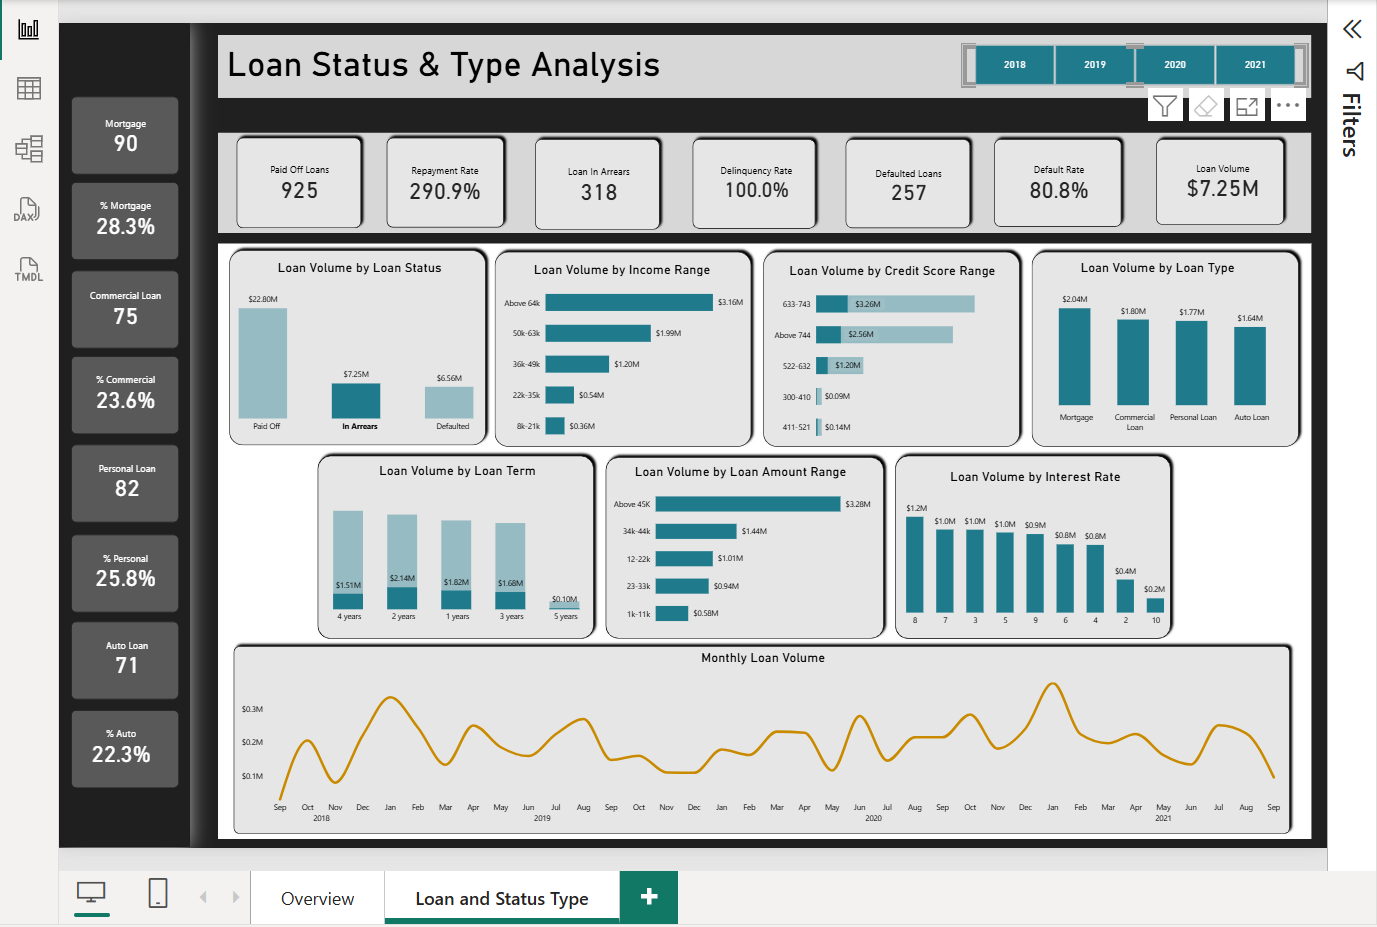

This screenshot's page, from the dashboard's own definition file:
{"tool":"powerbi","page":{"name":"Loan and Status Type","canvas":[2000,1300],"ordinal":1},"visuals":[{"type":"shape","box":[250.8,347.8,1724.8,939.3],"z":0},{"type":"shape","box":[250.8,18.9,1724.8,99.4],"z":1000},{"type":"shape","box":[250.8,172.7,1724.8,158.5],"z":2000},{"type":"shape","box":[267.4,974.8,1682.2,312.3],"z":3000},{"type":"shape","box":[272.5,172.5,212.7,159],"z":4000},{"type":"shape","box":[507.5,172.5,201.1,158],"z":5000},{"type":"shape","box":[742.5,175,212.7,159],"z":6000},{"type":"shape","box":[992.5,175,210,157.5],"z":7000},{"type":"shape","box":[1232.5,175,212.7,156.7],"z":8000},{"type":"shape","box":[1467.5,175,217.2,154.5],"z":9000},{"type":"shape","box":[1722.5,175,217.7,151.4],"z":11000},{"type":"cardVisual","fields":{"Data":["Measure Table.Paid Off Loans"]},"box":[287.5,195,182.2,118.3],"z":12000},{"type":"cardVisual","fields":{"Data":["Measure Table.Repayment Rate"]},"box":[522.5,190,172.7,130.1],"z":13000},{"type":"cardVisual","fields":{"Data":["Measure Table.Loan In Arrears"]},"box":[755,195,194,125.4],"z":14000},{"type":"cardVisual","fields":{"Data":["Measure Table.Delinquency Rate"]},"box":[995,195,208.2,118.3],"z":15000},{"type":"cardVisual","fields":{"Data":["Measure Table.Defaulted Loans"]},"box":[1240,210,201.1,94.6],"z":16000},{"type":"cardVisual","fields":{"Data":["Measure Table.Default Rate"]},"box":[1485,192.5,183.6,123.1],"z":17000},{"type":"cardVisual","fields":{"Data":["Measure Table.Loan Volume Display"]},"box":[1732.5,192.5,208.2,118.3],"z":19000},{"type":"lineChart","title":"Monthly Loan Volume","fields":{"Category":["Date Table.Year","Date Table.Month Name"],"Y":["Measure Table.Loan Volume"]},"box":[272.5,975,1677.5,312.5],"z":20000},{"type":"slicer","fields":{"Values":["Date Table.Year"]},"box":[1424.3,33.1,544.2,66.2],"z":21000},{"type":"shape","box":[0,0,206.9,1300],"z":22000},{"type":"shape","title":"Loan Status & Type Analysis","box":[250.8,33.1,712.1,80.4],"z":23000},{"type":"shape","box":[17.9,116.4,170,123],"z":24000},{"type":"shape","box":[17.9,250.8,170,123],"z":25000},{"type":"shape","box":[17.9,389.6,170,123],"z":26000},{"type":"shape","box":[17.9,526.1,170.2,123.1],"z":27000},{"type":"shape","box":[17.9,664.9,170,123],"z":28000},{"type":"shape","box":[17.9,806,170,123],"z":29000},{"type":"shape","box":[17.9,944.8,170,123],"z":30000},{"type":"shape","box":[17.9,1083.6,170.2,123.1],"z":31000},{"type":"cardVisual","fields":{"Data":["Measure Table.Mortgage"]},"box":[14.2,120.7,182.2,118.3],"z":32000},{"type":"cardVisual","fields":{"Data":["Measure Table.% Mortgage"]},"box":[14.2,250.8,182.2,118.3],"z":33000},{"type":"cardVisual","fields":{"Data":["Measure Table.Commercial Loan"]},"box":[14.2,392.7,182.2,118.3],"z":34000},{"type":"cardVisual","fields":{"Data":["Measure Table.% Commercial"]},"box":[14.2,525.2,182.2,118.3],"z":35000},{"type":"cardVisual","fields":{"Data":["Measure Table.Personal Loan"]},"box":[16.6,664.8,182.2,118.3],"z":36000},{"type":"cardVisual","fields":{"Data":["Measure Table.% Personal Loan"]},"box":[14.2,806.8,182.2,118.3],"z":37000},{"type":"cardVisual","fields":{"Data":["Measure Table.Auto Loan"]},"box":[16.6,944,182.2,118.3],"z":38000},{"type":"cardVisual","fields":{"Data":["Measure Table.% Auto Loan"]},"box":[7.1,1083.6,182.2,118.3],"z":39000},{"type":"shape","box":[260.3,350.2,421.1,324.1],"z":40000},{"type":"columnChart","title":"Loan Volume by Loan Status","fields":{"Category":["loan dataset.Loan Status"],"Y":["Measure Table.Loan Volume"]},"box":[267.4,359.6,414,305.2],"z":41000},{"type":"shape","box":[679,352.5,421.1,324.1],"z":42000},{"type":"shape","box":[1102.5,352.5,421.1,324.1],"z":43000},{"type":"shape","box":[1526,352.5,437.7,324.1],"z":44000},{"type":"shape","box":[400,675,451.9,305.2],"z":45000},{"type":"shape","box":[854.4,675.6,455,302.5],"z":46000},{"type":"shape","box":[1310,674.4,451,305],"z":47000},{"type":"clusteredBarChart","title":"Loan Volume by Income Range","fields":{"Category":["loan dataset.Income Range"],"Y":["Measure Table.Loan Volume"]},"box":[681.4,362,414,305.2],"z":48000},{"type":"clusteredBarChart","title":"Loan Volume by Credit Score Range","fields":{"Category":["loan dataset.Credit Score Range"],"Y":["Measure Table.Loan Volume Display"]},"box":[1107.5,365,415,305],"z":49000},{"type":"columnChart","title":"Loan Volume by Loan Type","fields":{"Category":["loan dataset.Loan Type"],"Y":["Measure Table.Loan Volume"]},"box":[1525,360,414,305.2],"z":50000},{"type":"columnChart","title":"Loan Volume by Loan Term","fields":{"Category":["loan dataset.Loan Term"],"Y":["Measure Table.Loan Volume"]},"box":[415.6,680,424.4,286.7],"z":51000},{"type":"columnChart","title":"Loan Volume by Interest Rate","fields":{"Category":["loan dataset.Interest Rate New"],"Y":["Measure Table.Loan Volume"]},"box":[1320,687.5,440,282.5],"z":52000},{"type":"clusteredBarChart","title":"Loan Volume by Loan Amount Range","fields":{"Category":["loan dataset.Loan Amount Range"],"Y":["Measure Table.Loan Volume"]},"box":[855,682.5,442.5,280],"z":53000}]}

Visuals, with their boxes on the page's 2000x1300 design canvas (x1, y1, x2, y2). These are canvas units, not pixel positions in the 1377x927 screenshot, which may show the page scaled, cropped or inside an application window:
shape: Rect(251, 348, 1976, 1287)
shape: Rect(251, 19, 1976, 118)
shape: Rect(251, 173, 1976, 331)
shape: Rect(267, 975, 1950, 1287)
shape: Rect(272, 172, 485, 332)
shape: Rect(508, 172, 709, 330)
shape: Rect(742, 175, 955, 334)
shape: Rect(992, 175, 1202, 332)
shape: Rect(1232, 175, 1445, 332)
shape: Rect(1468, 175, 1685, 330)
shape: Rect(1722, 175, 1940, 326)
cardVisual - Measure Table.Paid Off Loans: Rect(288, 195, 470, 313)
cardVisual - Measure Table.Repayment Rate: Rect(522, 190, 695, 320)
cardVisual - Measure Table.Loan In Arrears: Rect(755, 195, 949, 320)
cardVisual - Measure Table.Delinquency Rate: Rect(995, 195, 1203, 313)
cardVisual - Measure Table.Defaulted Loans: Rect(1240, 210, 1441, 305)
cardVisual - Measure Table.Default Rate: Rect(1485, 192, 1669, 316)
cardVisual - Measure Table.Loan Volume Display: Rect(1732, 192, 1941, 311)
"Monthly Loan Volume" lineChart: Rect(272, 975, 1950, 1288)
slicer - Date Table.Year: Rect(1424, 33, 1968, 99)
shape: Rect(0, 0, 207, 1300)
"Loan Status & Type Analysis" shape: Rect(251, 33, 963, 114)
shape: Rect(18, 116, 188, 239)
shape: Rect(18, 251, 188, 374)
shape: Rect(18, 390, 188, 513)
shape: Rect(18, 526, 188, 649)
shape: Rect(18, 665, 188, 788)
shape: Rect(18, 806, 188, 929)
shape: Rect(18, 945, 188, 1068)
shape: Rect(18, 1084, 188, 1207)
cardVisual - Measure Table.Mortgage: Rect(14, 121, 196, 239)
cardVisual - Measure Table.% Mortgage: Rect(14, 251, 196, 369)
cardVisual - Measure Table.Commercial Loan: Rect(14, 393, 196, 511)
cardVisual - Measure Table.% Commercial: Rect(14, 525, 196, 644)
cardVisual - Measure Table.Personal Loan: Rect(17, 665, 199, 783)
cardVisual - Measure Table.% Personal Loan: Rect(14, 807, 196, 925)
cardVisual - Measure Table.Auto Loan: Rect(17, 944, 199, 1062)
cardVisual - Measure Table.% Auto Loan: Rect(7, 1084, 189, 1202)
shape: Rect(260, 350, 681, 674)
"Loan Volume by Loan Status" columnChart: Rect(267, 360, 681, 665)
shape: Rect(679, 352, 1100, 677)
shape: Rect(1102, 352, 1524, 677)
shape: Rect(1526, 352, 1964, 677)
shape: Rect(400, 675, 852, 980)
shape: Rect(854, 676, 1309, 978)
shape: Rect(1310, 674, 1761, 979)
"Loan Volume by Income Range" clusteredBarChart: Rect(681, 362, 1095, 667)
"Loan Volume by Credit Score Range" clusteredBarChart: Rect(1108, 365, 1522, 670)
"Loan Volume by Loan Type" columnChart: Rect(1525, 360, 1939, 665)
"Loan Volume by Loan Term" columnChart: Rect(416, 680, 840, 967)
"Loan Volume by Interest Rate" columnChart: Rect(1320, 688, 1760, 970)
"Loan Volume by Loan Amount Range" clusteredBarChart: Rect(855, 682, 1298, 962)
